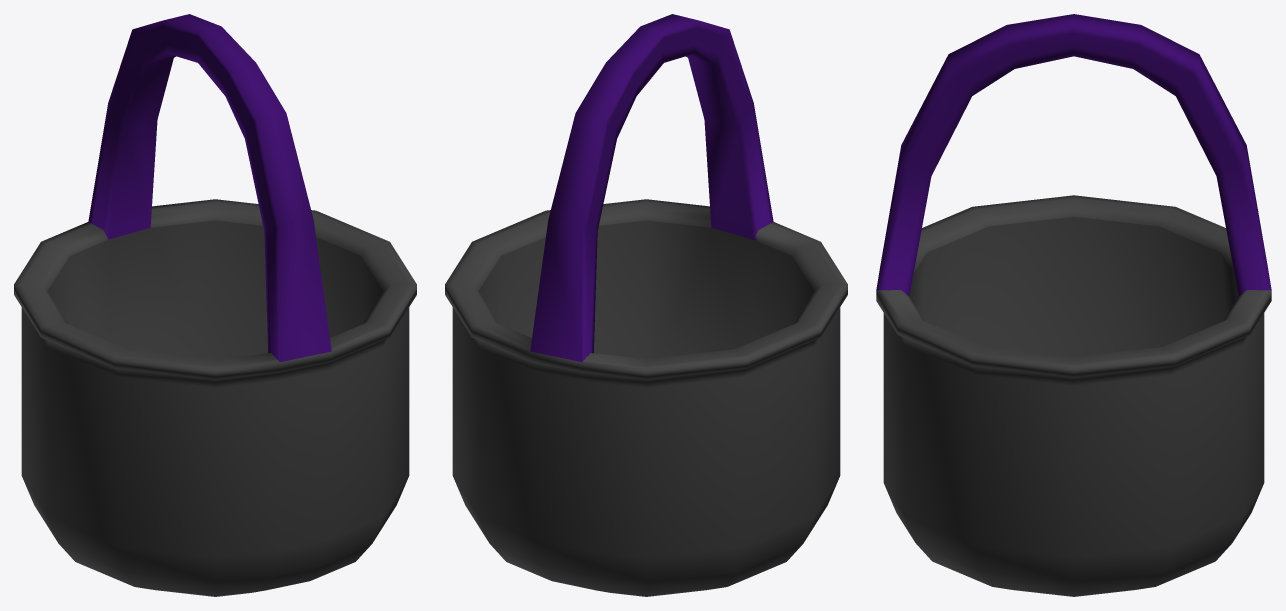
Rendered from basket.fbx.
3 renders of one model, left to right at view 1: azimuth 30°, elevation 25°; view 2: azimuth 150°, elevation 25°; view 3: azimuth 270°, elevation 25°, orthographic.
Parts seen in each view (by area): view 1: bascket; view 2: bascket; view 3: bascket.
Boxes of the visible parts, bbox=[...] form: bascket: bbox=[14, 14, 416, 596]; bascket: bbox=[445, 14, 847, 596]; bascket: bbox=[876, 14, 1271, 596].
Bounding box in the file's own units: 53.31 × 75.56 × 51.8.
